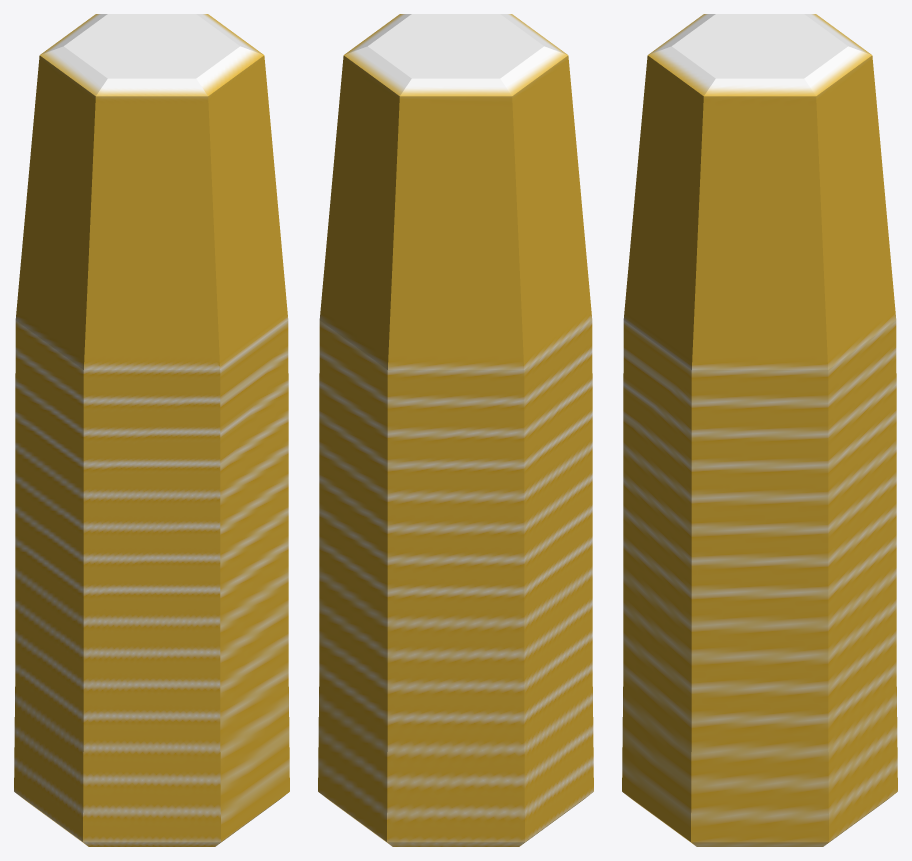
File: CupYellow.fbx
3 renders of one model, left to right at view 1: azimuth 30°, elevation 25°; view 2: azimuth 150°, elevation 25°; view 3: azimuth 270°, elevation 25°, orthographic.
Visible parts, largest first — view 1: Stack of Cups.001; view 2: Stack of Cups.001; view 3: Stack of Cups.001.
Part boxes in pixels (left/top/right/bottom): Stack of Cups.001: left=14, top=14, right=289, bottom=846; Stack of Cups.001: left=318, top=14, right=593, bottom=846; Stack of Cups.001: left=622, top=14, right=897, bottom=846.
Size of the model in its own units: 0.2666 by 0.9284 by 0.3078.
1 material, 1 textured.
